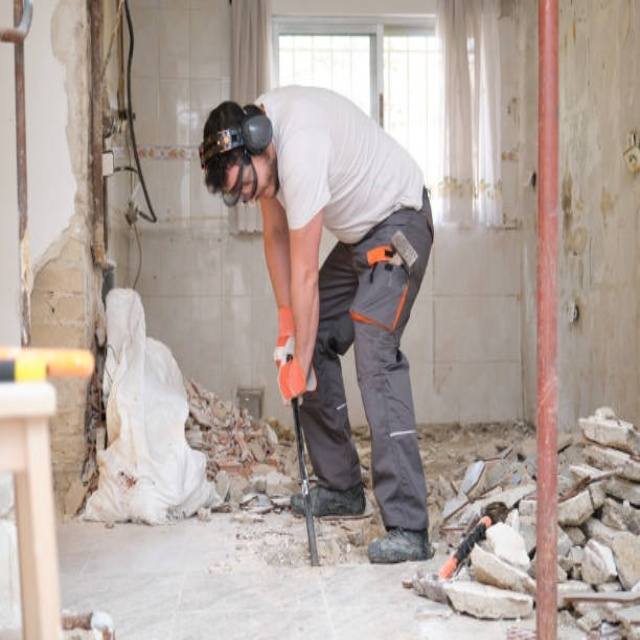Gafas: (221, 151, 252, 208)
Guantes: (277, 353, 315, 403), (274, 305, 296, 364)
Sin_mascara: (252, 179, 275, 205)
